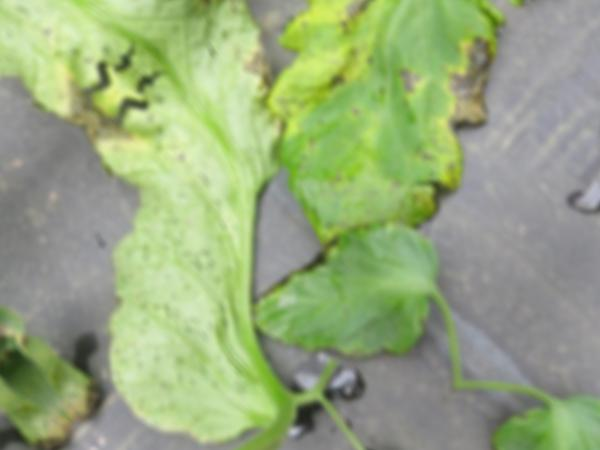Tomato leaf bacterial spot: (189, 0, 567, 292)
